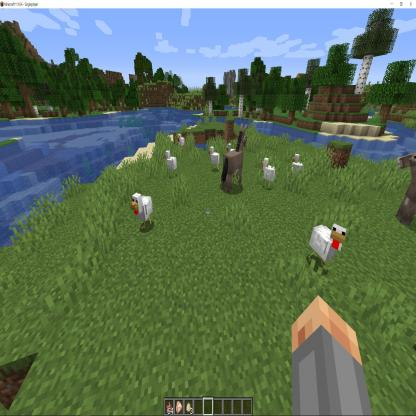minecraft-pigs: (184, 170, 233, 284)
